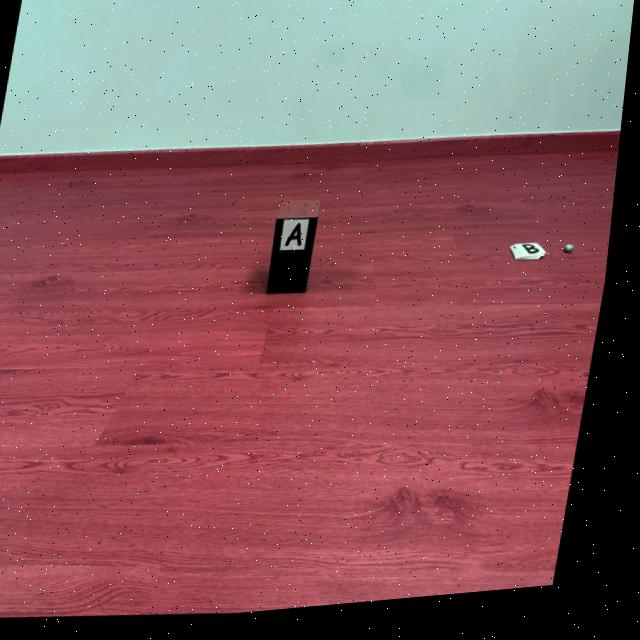A: (291, 229, 307, 251)
